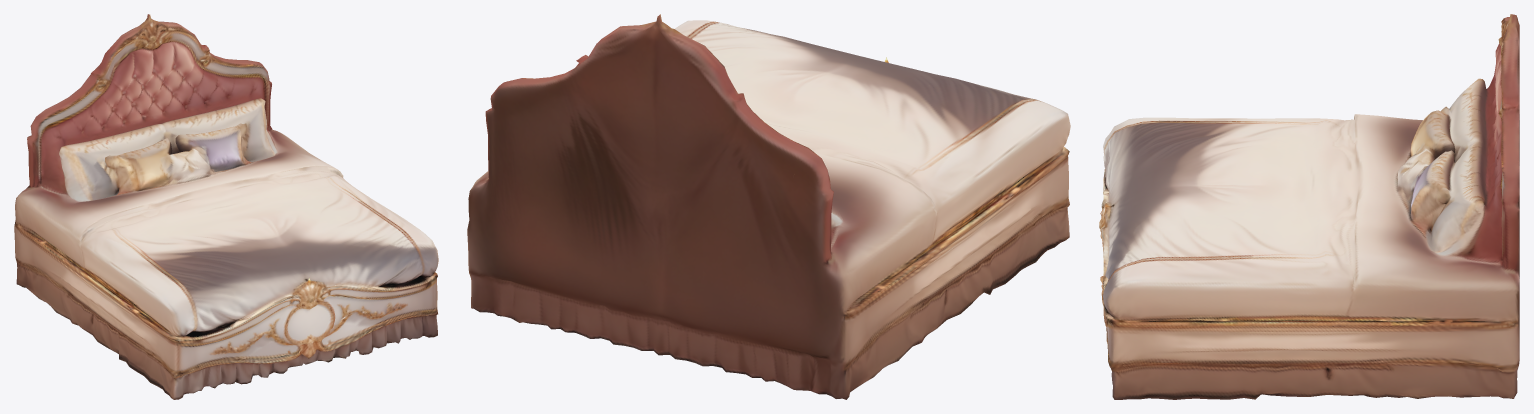
File: base_basic_shaded.fbx
3 views of the same model, side by side, from view 1: azimuth 30°, elevation 25°; view 2: azimuth 150°, elevation 25°; view 3: azimuth 270°, elevation 25° (orthographic). The views are drawn at different scales.
Visible parts, largest first — view 1: model; view 2: model; view 3: model.
Boxes of the visible parts, left/top/right/bottom form: model: left=14, top=14, right=438, bottom=399; model: left=467, top=14, right=1070, bottom=399; model: left=1099, top=14, right=1519, bottom=399.
Bounding box in the file's own units: 176 × 150 × 188.
